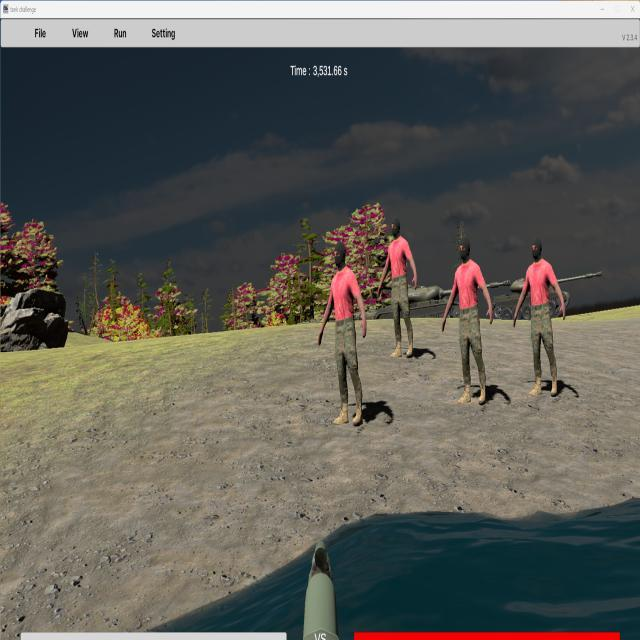Human: (318, 239, 367, 427), (442, 234, 493, 407), (514, 236, 565, 399), (378, 217, 418, 359)
